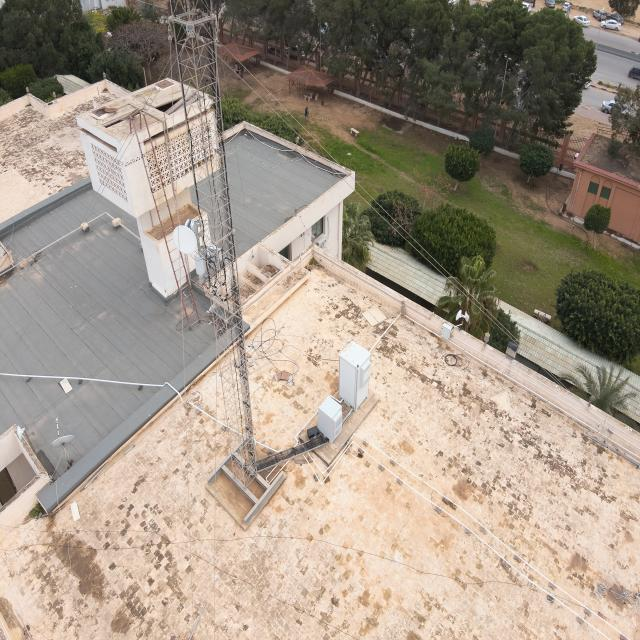microware-dish: (172, 216, 206, 254)
power-box: (194, 243, 223, 280)
